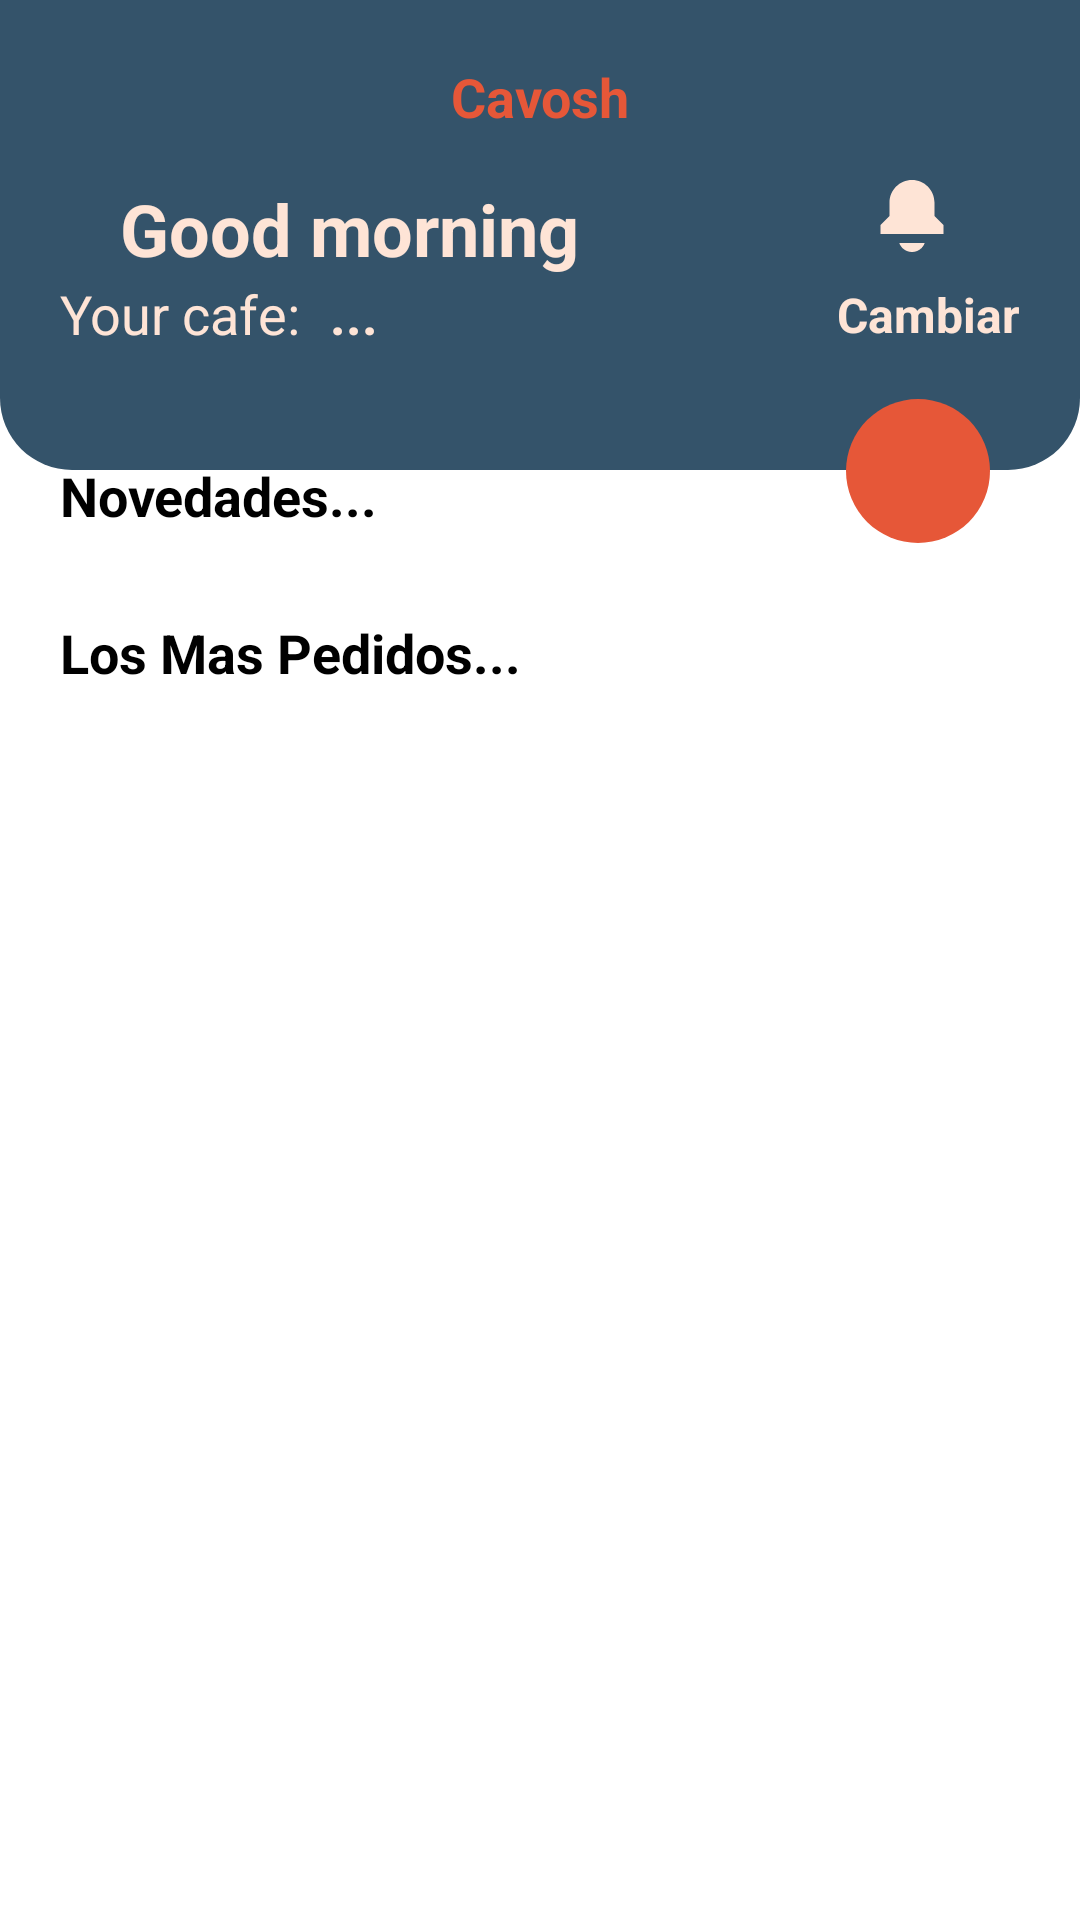

Where icons sit on this 1080 x 1920 app screen, as Rect(x1, y1, x2, y2):
bell: Rect(880, 180, 944, 252)
